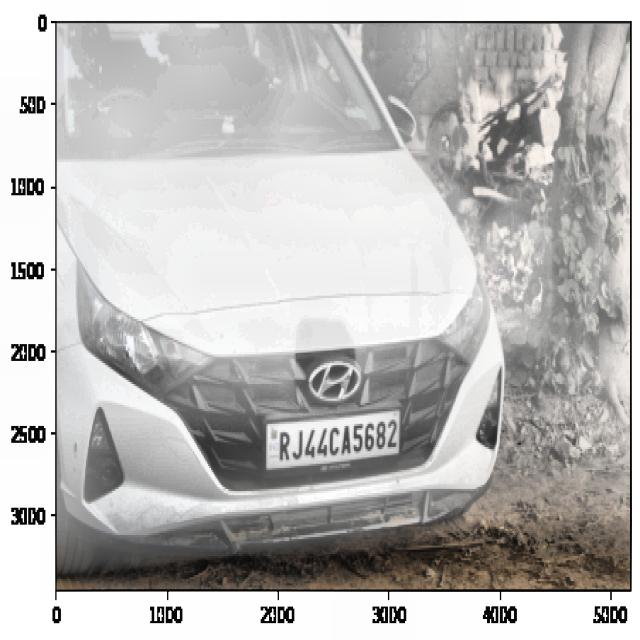license_plate: (273, 416, 402, 466)
